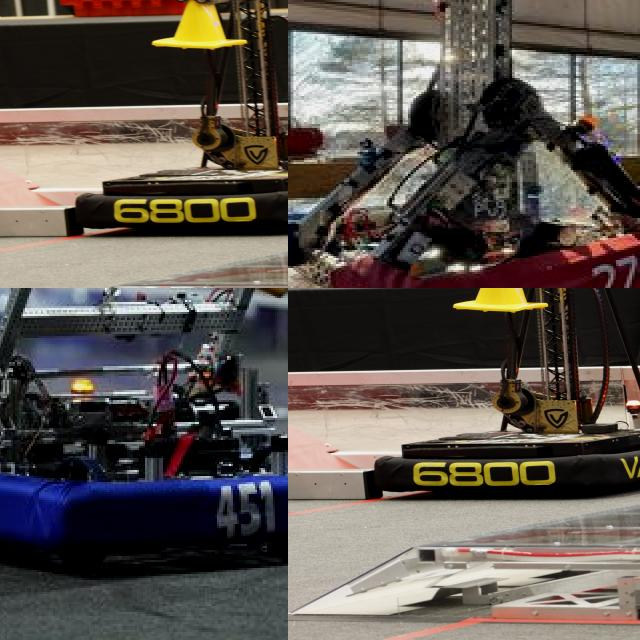FRC-Robots: (288, 0, 640, 288), (0, 288, 288, 601), (337, 288, 640, 507), (21, 0, 288, 241)
